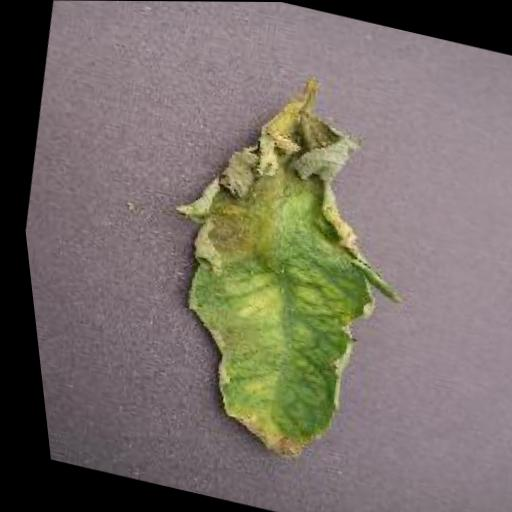Late Blight: (103, 78, 446, 485)
